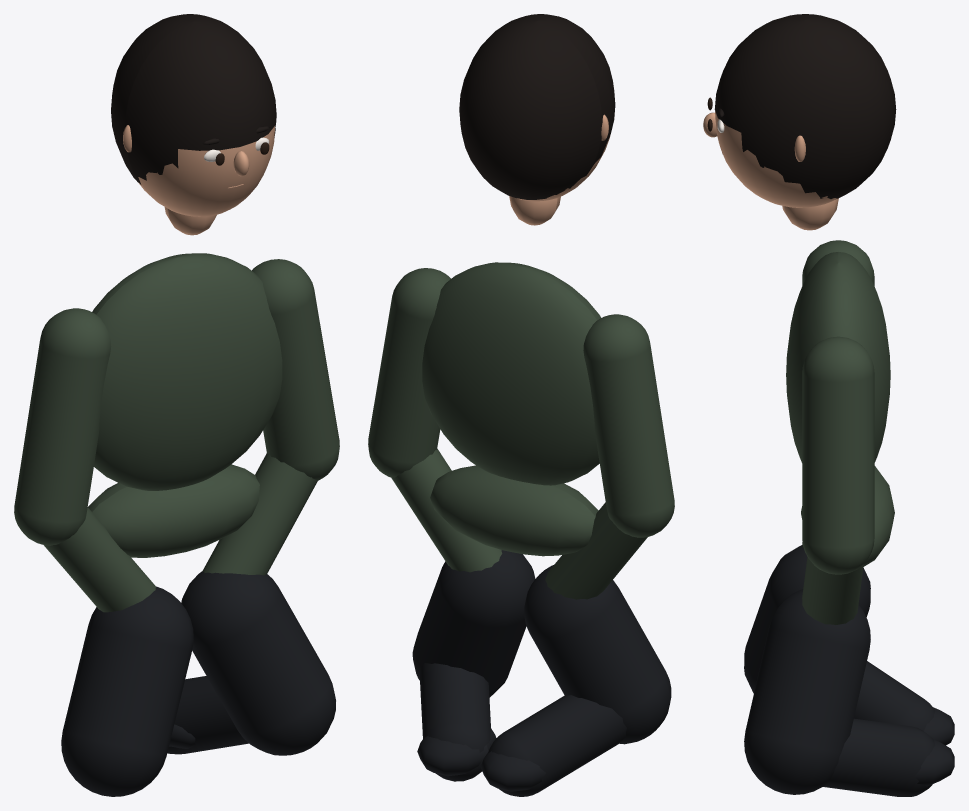
The model's file is seiza.glb.
3 views of the same model, side by side, from view 1: azimuth 30°, elevation 25°; view 2: azimuth 150°, elevation 25°; view 3: azimuth 270°, elevation 25° (orthographic). The views are drawn at different scales.
Parts seen in each view (by area): view 1: cloth (×6), pants (×3), hair, skin (×2); view 2: cloth (×6), pants (×6), hair, skin; view 3: pants (×6), cloth (×5), hair, skin (×2).
Boxes of the visible parts, left/top/right/bottom form: cloth (×6): left=14, top=253, right=339, bottom=612; pants (×3): left=61, top=571, right=335, bottom=796; hair: left=111, top=14, right=276, bottom=184; skin (×2): left=138, top=126, right=274, bottom=235; cloth (×6): left=368, top=262, right=674, bottom=599; pants (×6): left=412, top=550, right=671, bottom=796; hair: left=459, top=14, right=615, bottom=199; skin: left=509, top=196, right=560, bottom=225; pants (×6): left=744, top=545, right=954, bottom=796; cloth (×5): left=786, top=240, right=894, bottom=624; hair: left=714, top=14, right=896, bottom=198; skin (×2): left=715, top=111, right=838, bottom=230.
Size of the model in its own units: 0.376 by 0.8795 by 0.2644.
